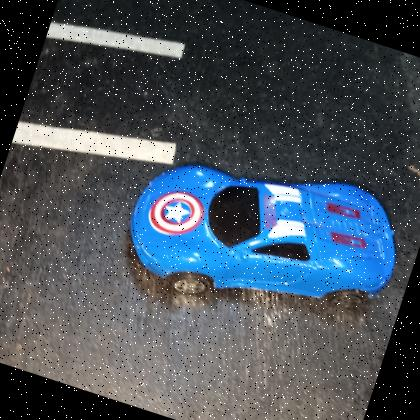Car: (110, 118, 418, 354)
